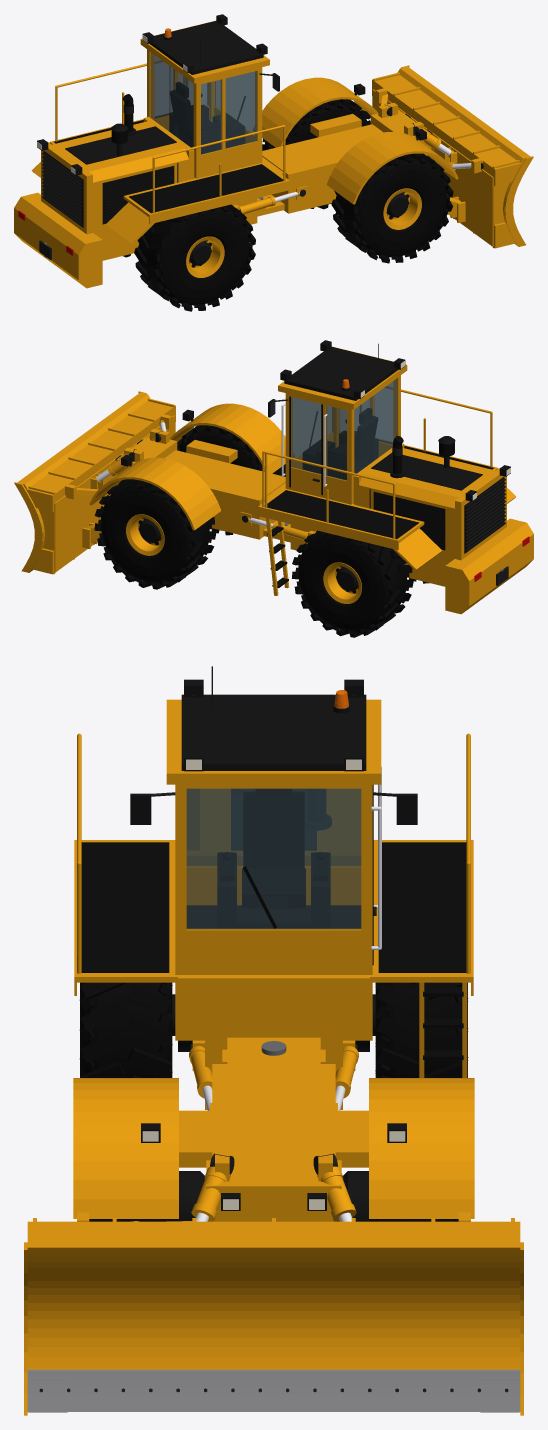
File: wheel_dozer.obj
The picture shows the model from 3 angles, top to bottom: view 1: azimuth 30°, elevation 25°; view 2: azimuth 150°, elevation 25°; view 3: azimuth 270°, elevation 25°; orthographic projection. The views are drawn at different scales.
Visible parts, largest first — view 1: rear_frame, cab, front_frame, blade, wheel_rear_right, wheel_front_right, wheel_front_left, lift_cylinders, push_arms; view 2: rear_frame, cab, front_frame, blade, wheel_rear_left, wheel_front_left, wheel_front_right, lift_cylinders, push_arms; view 3: blade, cab, front_frame, rear_frame, wheel_rear_right, wheel_rear_left, axles, lift_cylinders.
Boxes of the visible parts, x1,y1,x2,y2 form: rear_frame: [14, 60, 289, 288]; cab: [140, 14, 279, 178]; front_frame: [238, 77, 458, 216]; blade: [372, 65, 533, 248]; wheel_rear_right: [134, 204, 255, 311]; wheel_front_right: [331, 153, 453, 263]; wheel_front_left: [262, 99, 370, 209]; lift_cylinders: [384, 104, 453, 157]; push_arms: [381, 94, 483, 216]; rear_frame: [258, 386, 533, 614]; cab: [268, 340, 407, 504]; front_frame: [89, 403, 308, 542]; blade: [14, 391, 175, 574]; wheel_rear_left: [292, 530, 413, 637]; wheel_front_left: [94, 479, 216, 589]; wheel_front_right: [177, 425, 285, 535]; lift_cylinders: [94, 430, 163, 483]; push_arms: [76, 419, 166, 542]; blade: [24, 1212, 523, 1415]; cab: [130, 666, 417, 974]; front_frame: [73, 1037, 474, 1221]; rear_frame: [74, 733, 473, 1109]; wheel_rear_right: [79, 982, 172, 1077]; wheel_rear_left: [375, 982, 468, 1077]; axles: [172, 994, 375, 1221]; lift_cylinders: [191, 1153, 356, 1221].
Size of the model in its own units: 8 by 4.3 by 4.06.
